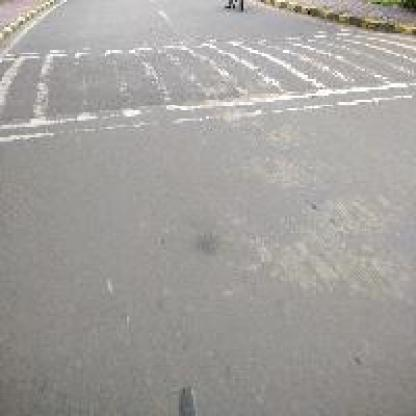Speed Bump: (0, 23, 414, 145)
